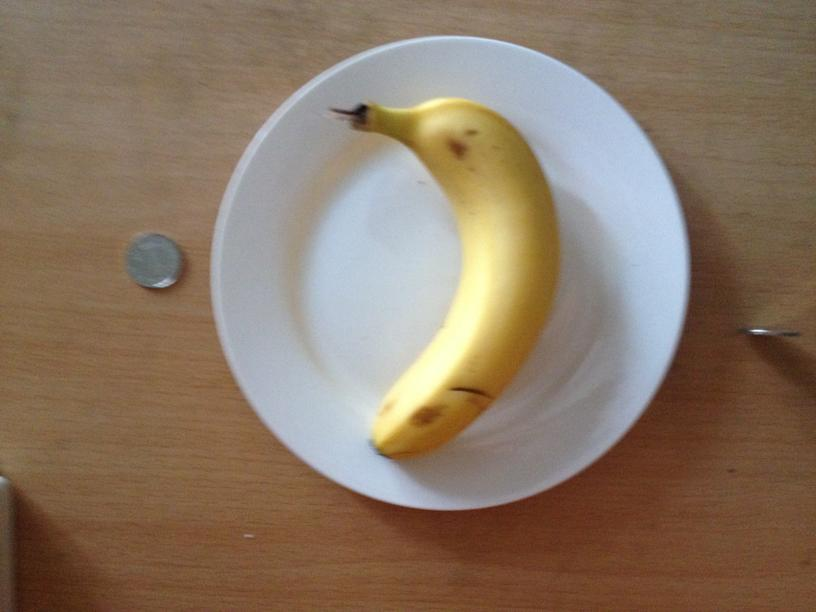banana: (336, 99, 560, 459)
coin: (123, 230, 184, 291)
